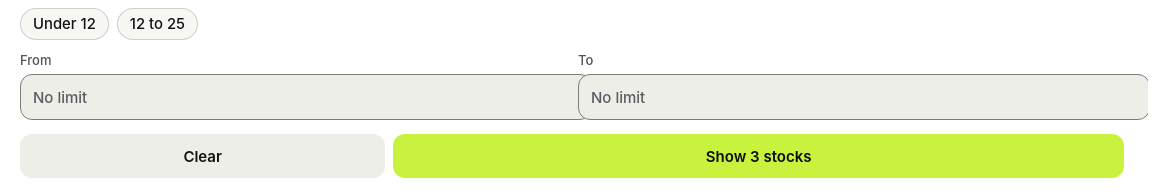
RangeEditor › presets fill both ends and show which one is pressed
Click the button "Under 12": coordinates (64, 24) 20,8 -> 109,40
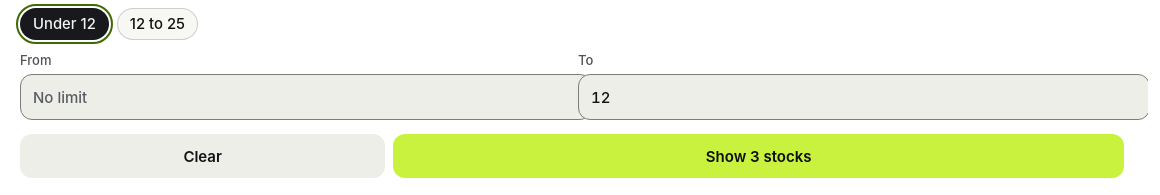
Expected: the button "Under 12" is pressed, 20,8 -> 109,40
Click the button with test id "re-preset-mid": coordinates (157, 24) 117,8 -> 198,40
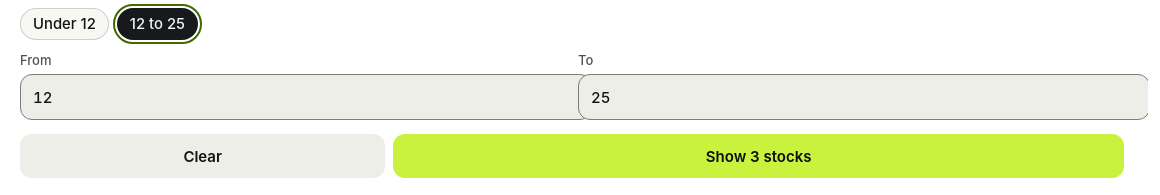
Expected: the field labelled "From" holds "12", 20,74 -> 592,120
